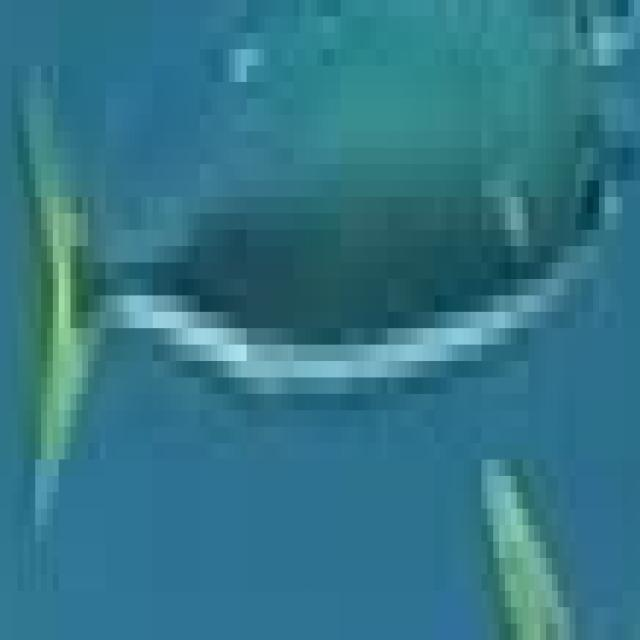fish: (0, 0, 634, 624)
